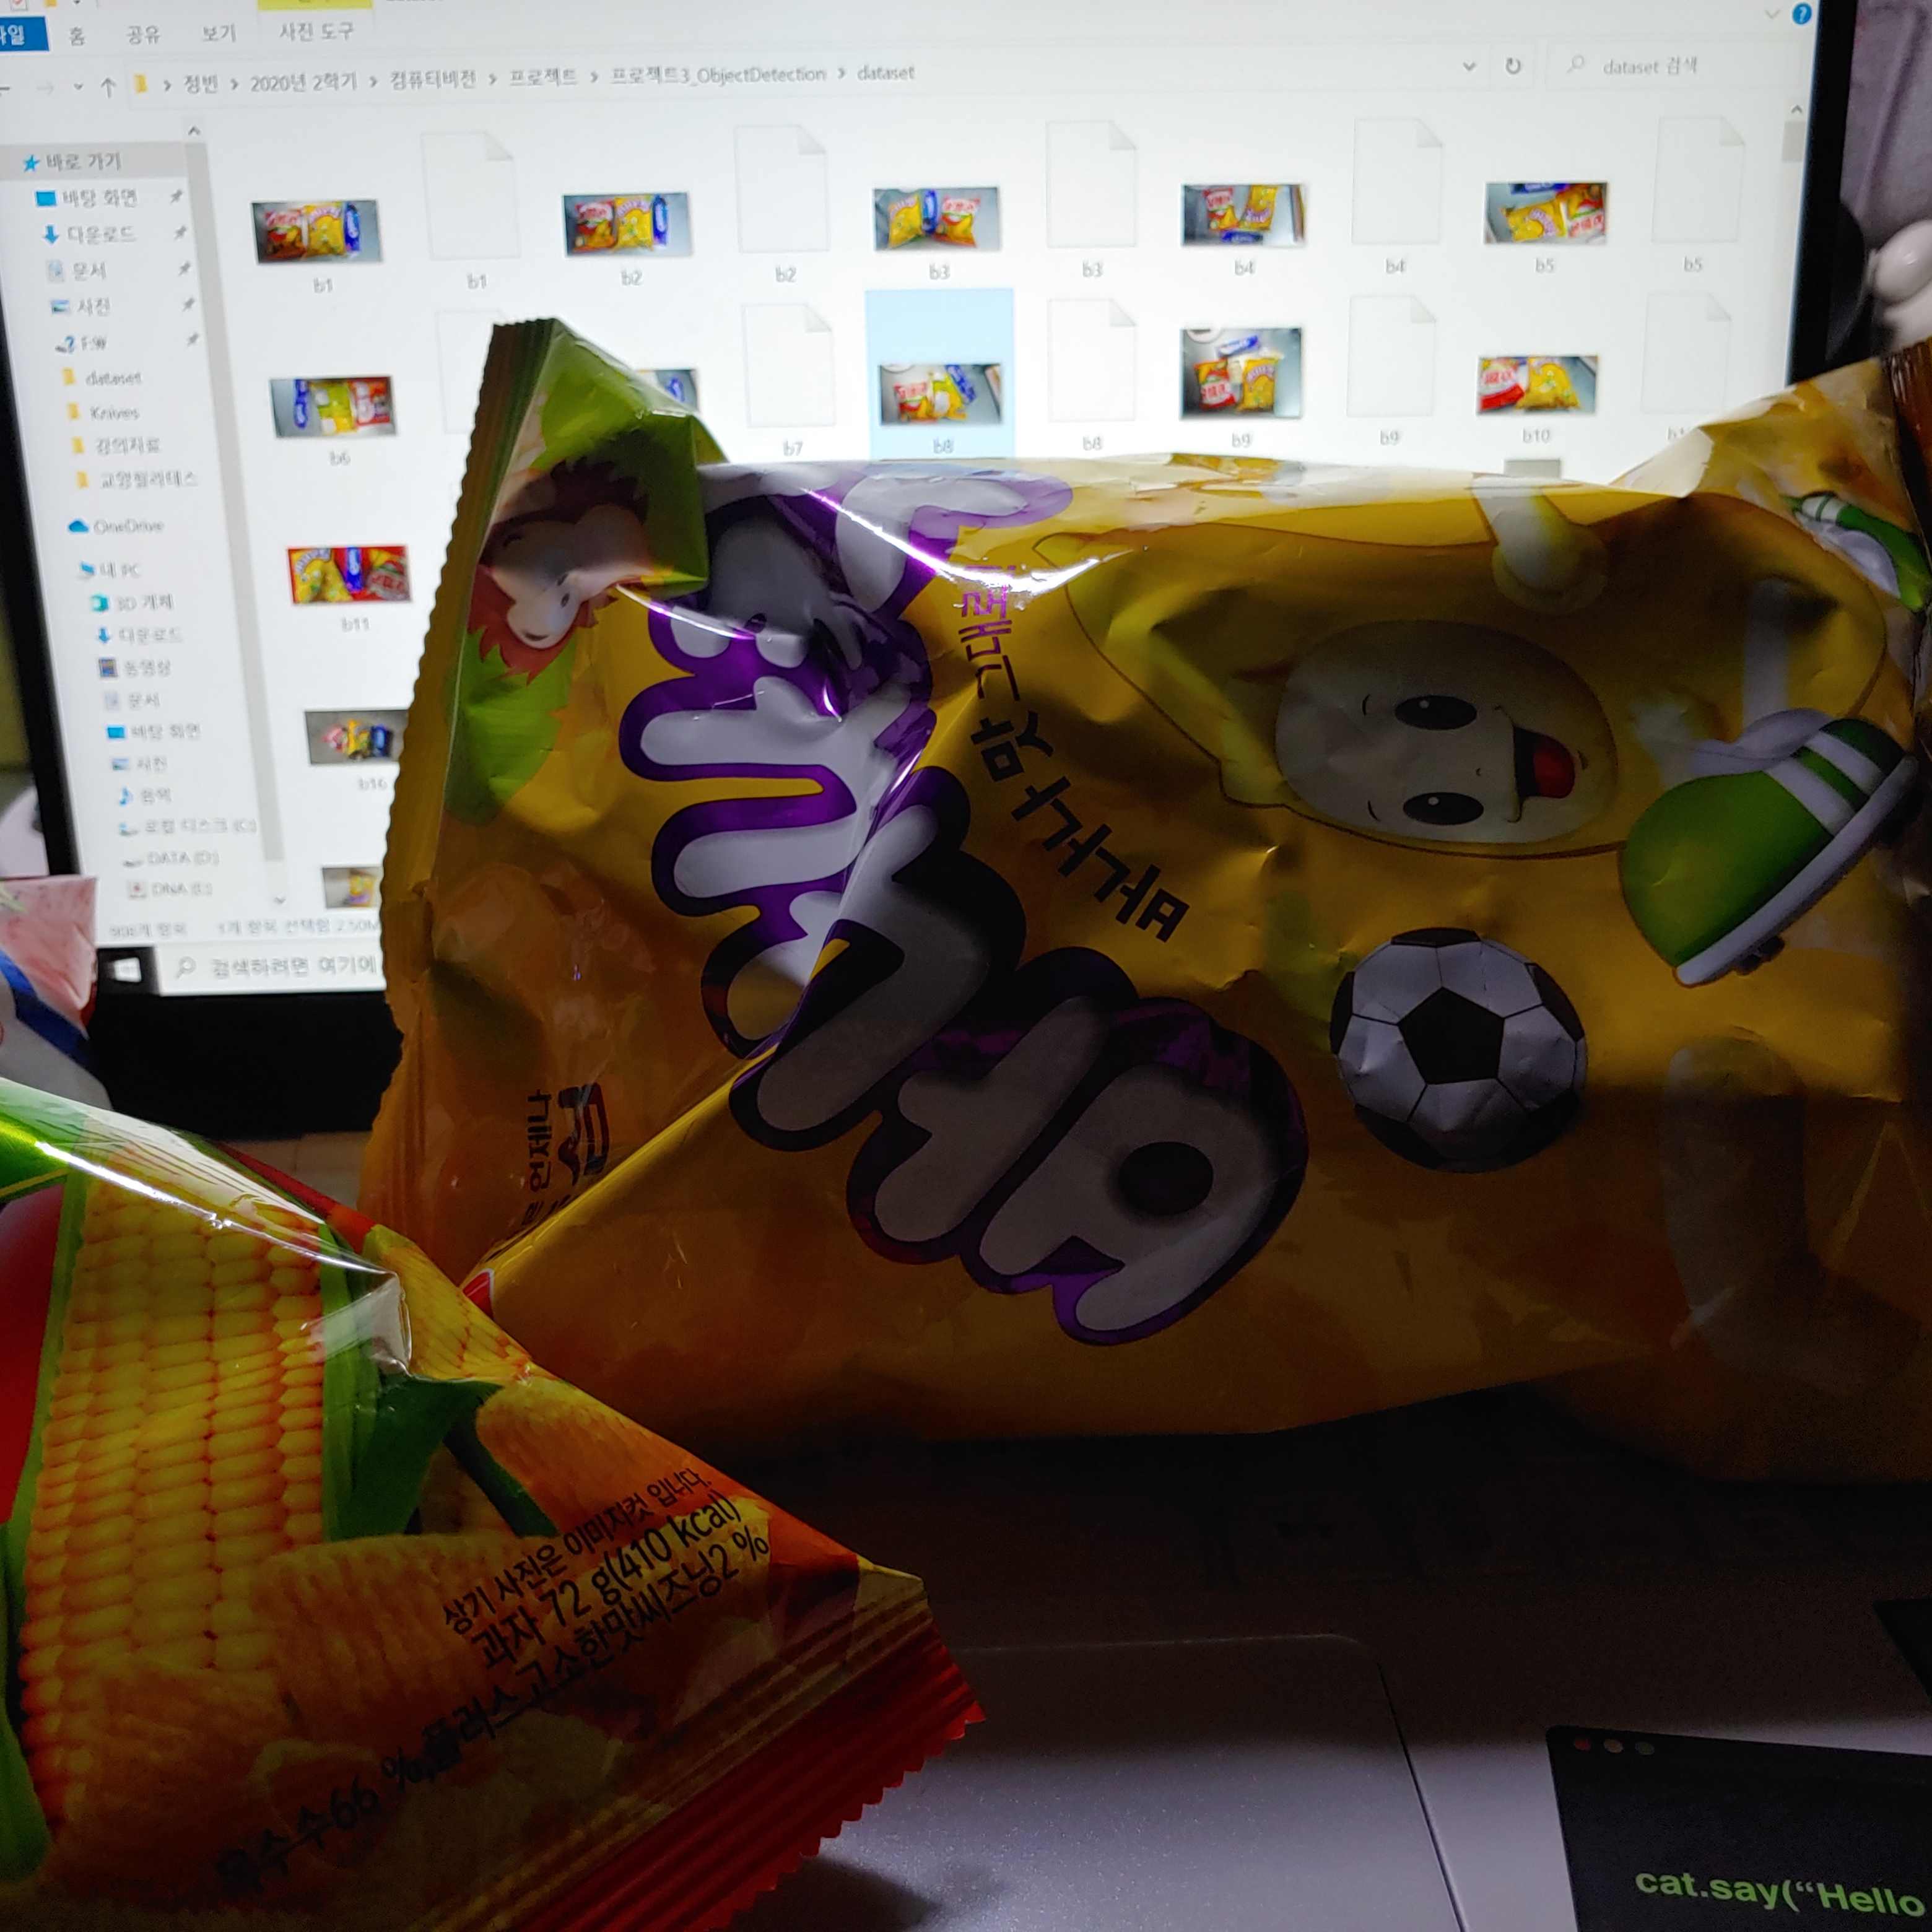banana: (287, 230, 1932, 1502)
ggoggalcon: (4, 828, 1060, 1932)
